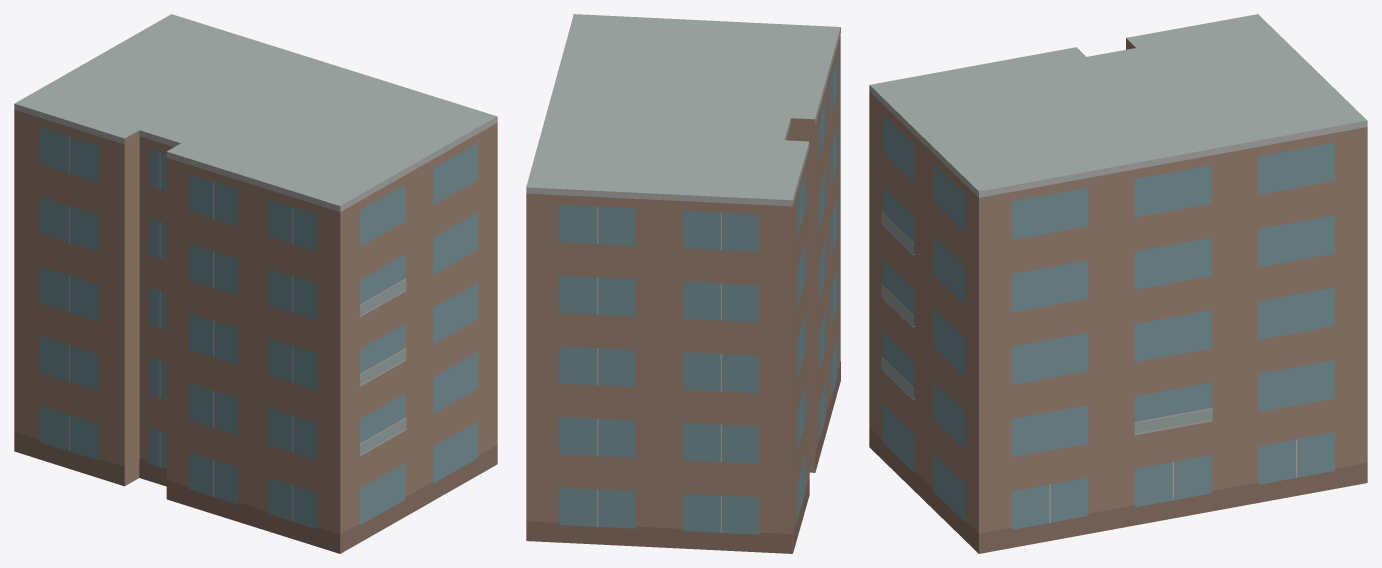
The model's file is survey-upis-32595856.glb.
The picture shows the model from 3 angles, left to right: view 1: azimuth 30°, elevation 25°; view 2: azimuth 150°, elevation 25°; view 3: azimuth 270°, elevation 25°; orthographic projection. The views are drawn at different scales.
Parts seen in each view (by area): view 1: survey-upis-32595856.tmp; view 2: survey-upis-32595856.tmp; view 3: survey-upis-32595856.tmp.
Boxes of the visible parts, x1,y1,x2,y2 form: survey-upis-32595856.tmp: (14, 14, 497, 553); survey-upis-32595856.tmp: (526, 14, 840, 553); survey-upis-32595856.tmp: (869, 14, 1367, 553).
Bounding box in the file's own units: 14.73 × 14 × 17.45.
